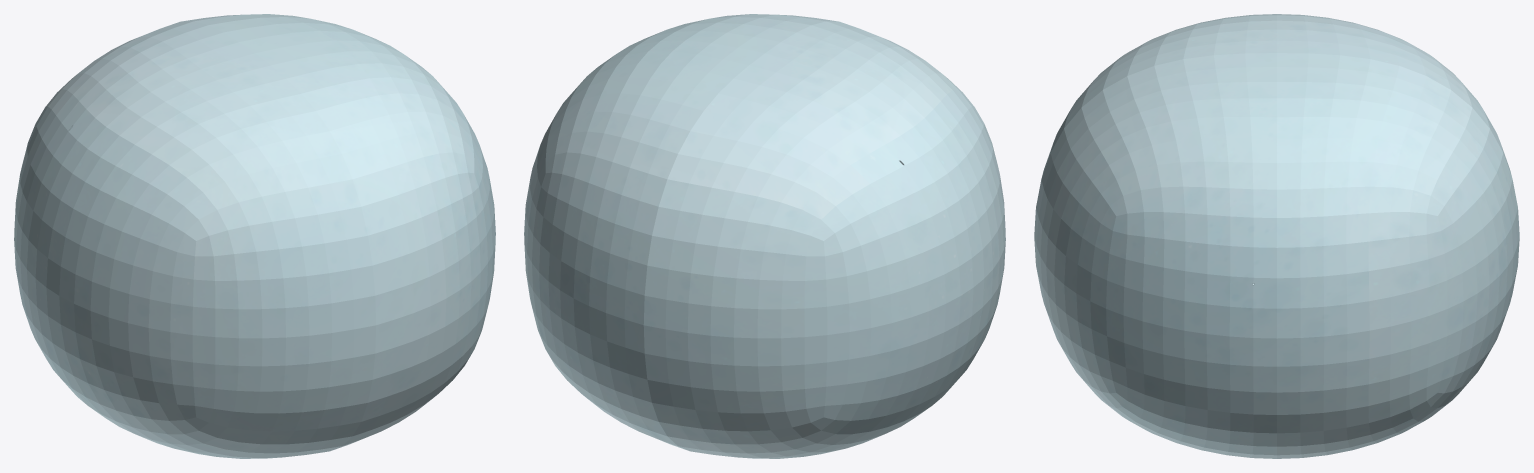
Rendered from frosty0.obj.
3 views of the same model, side by side, from view 1: azimuth 30°, elevation 25°; view 2: azimuth 150°, elevation 25°; view 3: azimuth 270°, elevation 25° (orthographic).
Parts seen in each view (by area): view 1: frosty1; view 2: frosty1; view 3: frosty1.
Boxes of the visible parts, <box> form: frosty1: <box>14,14,495,458</box>; frosty1: <box>524,14,1005,458</box>; frosty1: <box>1034,14,1519,458</box>.
Bounding box in the file's own units: 1.95 × 1.65 × 1.96.
Materials: 1 (1 with a texture image).
